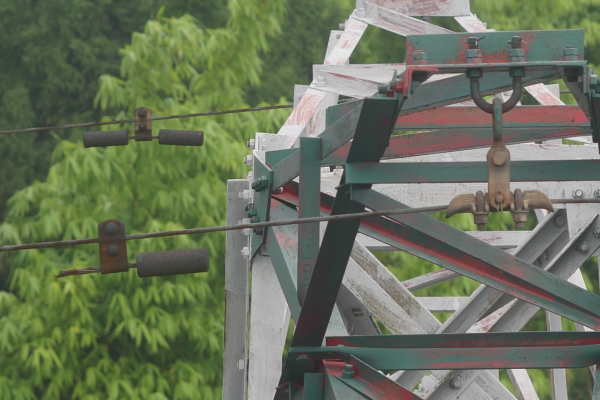damper: (80, 103, 206, 149)
damper_defect: (50, 214, 212, 281)
